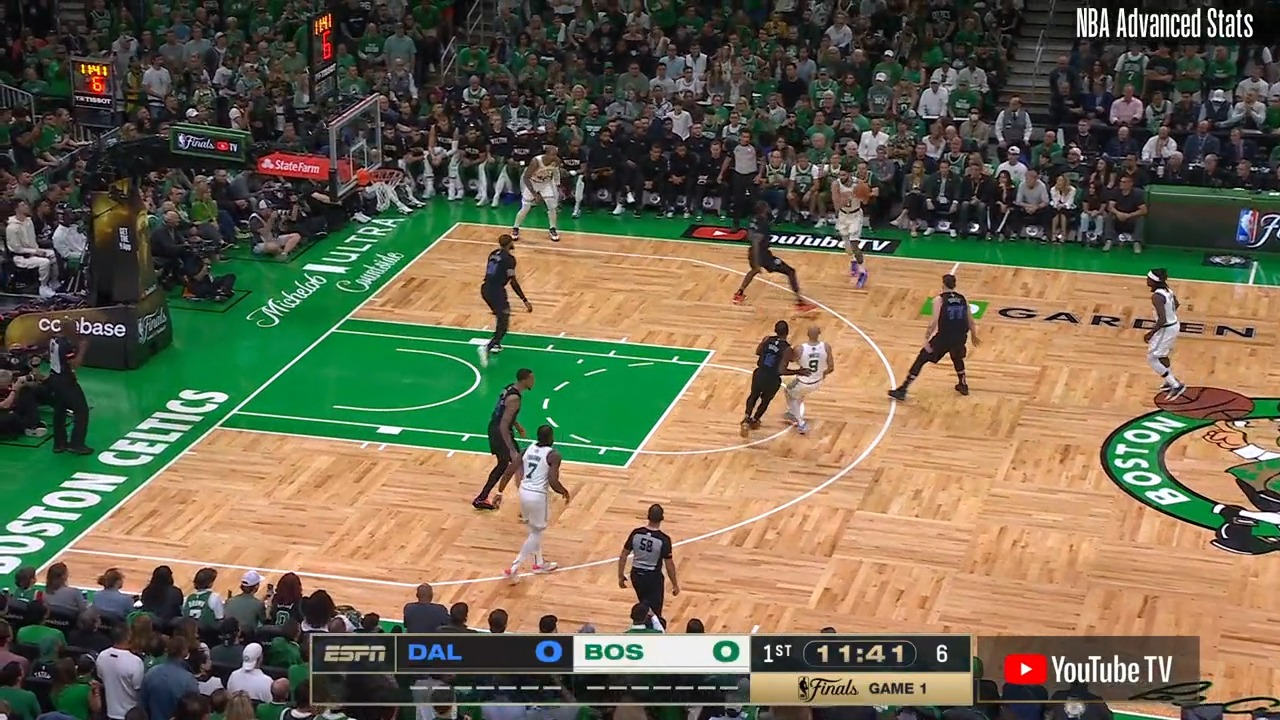basketball: (851, 180, 873, 202)
